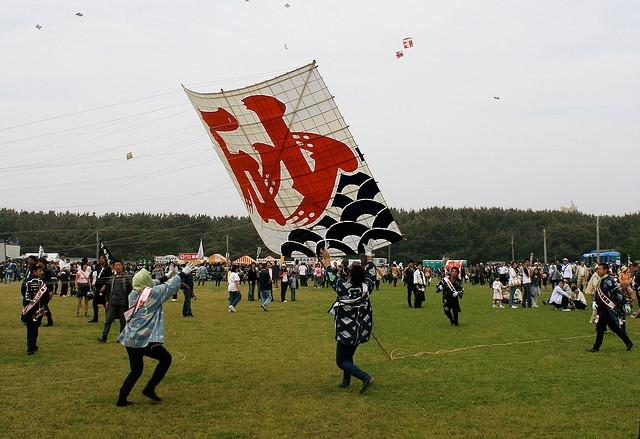strawberry: (327, 282, 368, 316), (124, 287, 152, 322), (22, 283, 47, 314), (596, 286, 618, 310), (443, 276, 457, 292), (98, 268, 104, 279), (164, 266, 169, 273)
